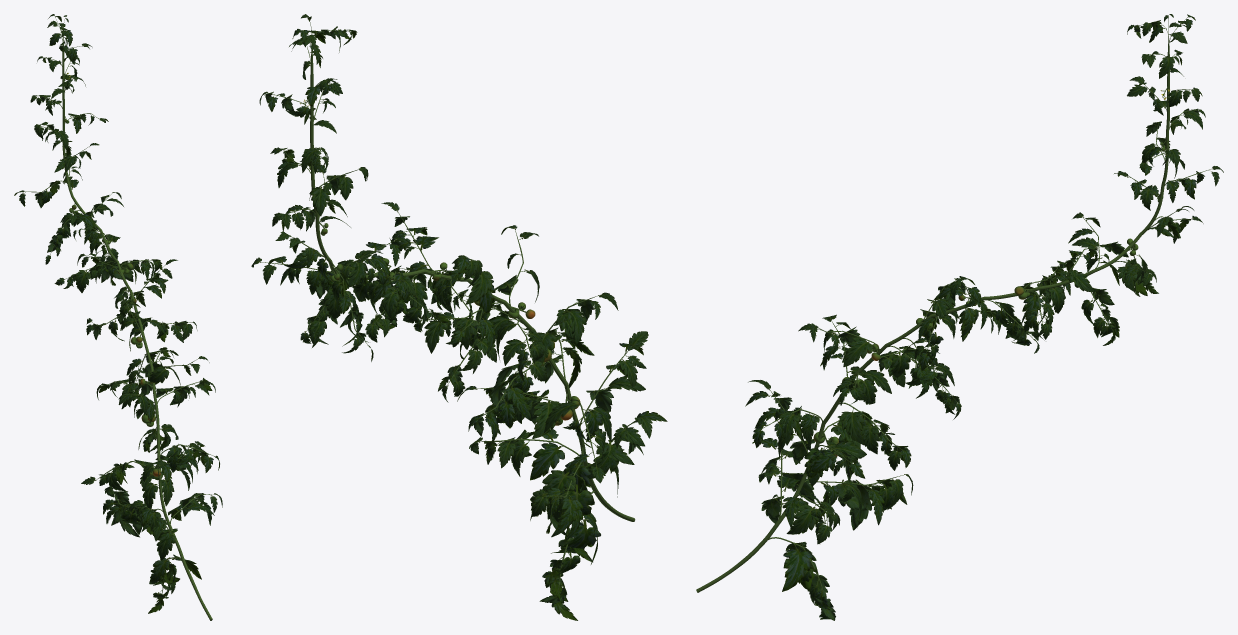
Rendered from tomato_021.glb.
The picture shows the model from 3 angles, left to right: view 1: azimuth 30°, elevation 25°; view 2: azimuth 150°, elevation 25°; view 3: azimuth 270°, elevation 25°; orthographic projection. The views are drawn at different scales.
Visible parts, largest first — view 1: tomato_021; view 2: tomato_021; view 3: tomato_021.
Boxes of the visible parts, x1,y1,x2,y2 form: tomato_021: [14, 14, 222, 620]; tomato_021: [251, 14, 667, 620]; tomato_021: [696, 14, 1223, 620].
Bounding box in the file's own units: 0.8214 × 2.81 × 2.11.
Materials: 15 (14 with a texture image).
